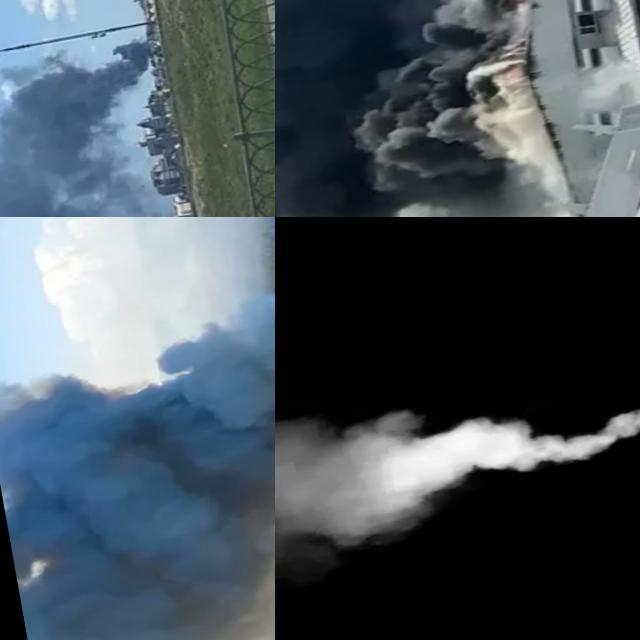smoke: (0, 217, 275, 640), (275, 343, 640, 595), (275, 0, 573, 217), (0, 31, 192, 217)
